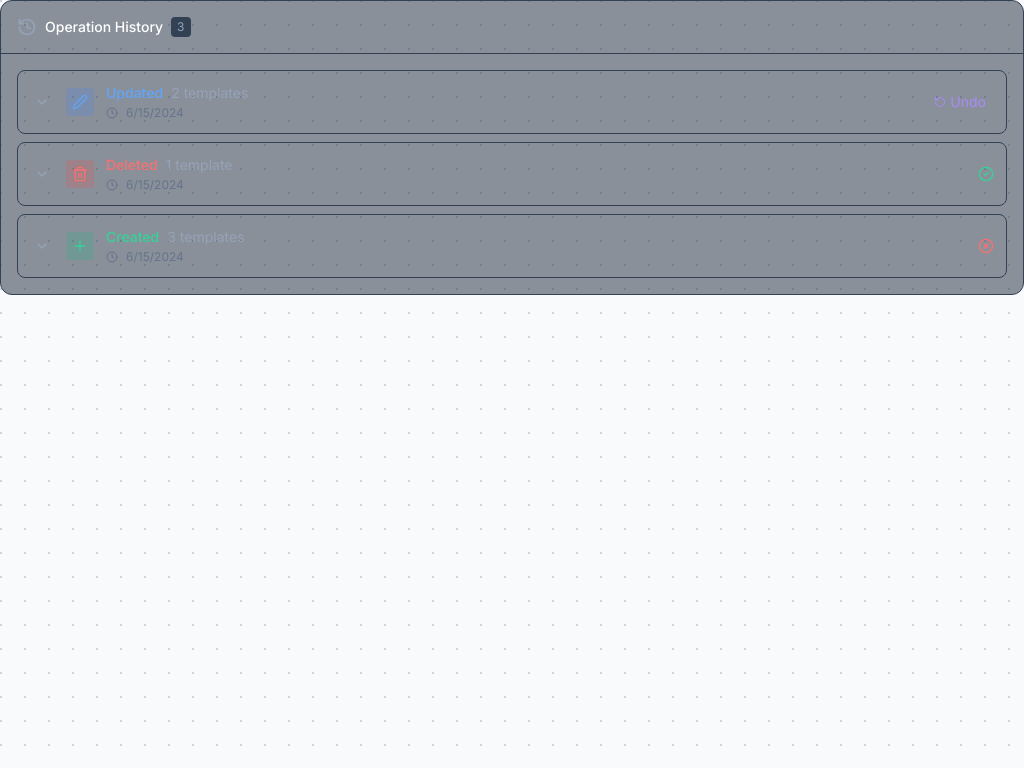
Test case: OperationHistoryPanel › Expand/Collapse › expands operation details when clicked
The image size is (1024, 768).
Note: Click the first operation row
Click the button named "Expand": (135, 92) [30, 84, 994, 120]
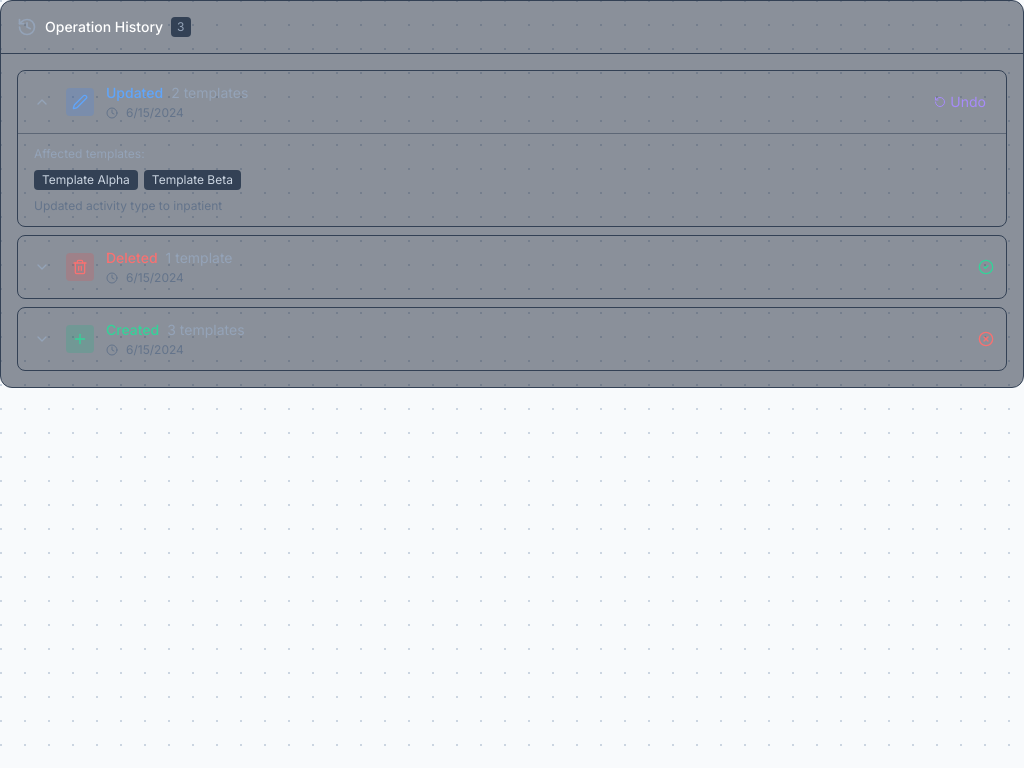
expect the text "Affected templates:" is shown: met, box [34, 146, 145, 161]
expect the text "Template Alpha" is shown: met, box [34, 170, 138, 190]
expect the text "Template Beta" is shown: met, box [144, 170, 241, 190]
